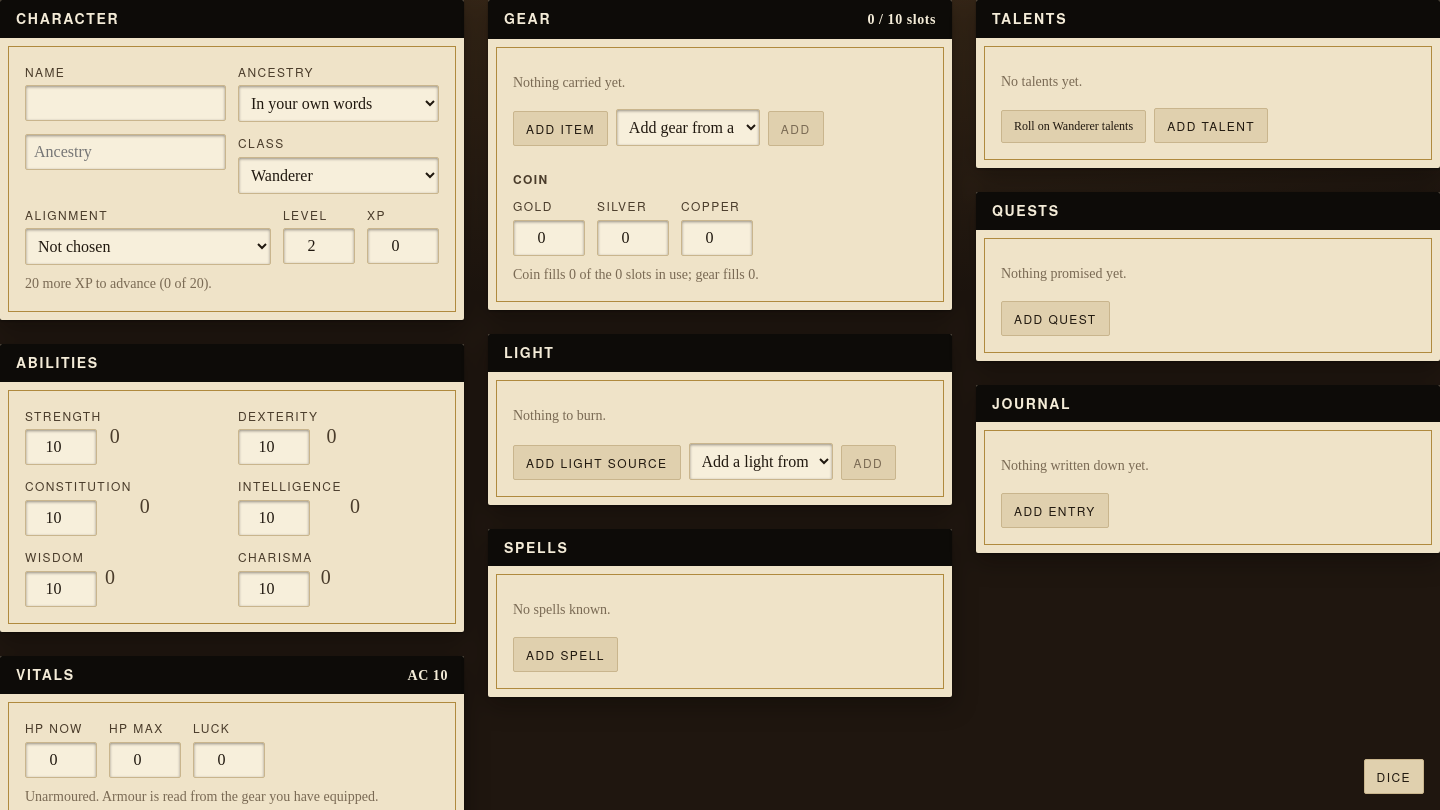
it: the class’s talent table › writes nothing when the roll lands on a face no row covers
Click the button "Roll on Wanderer talents" at [1074, 127], box [1001,110,1146,143]
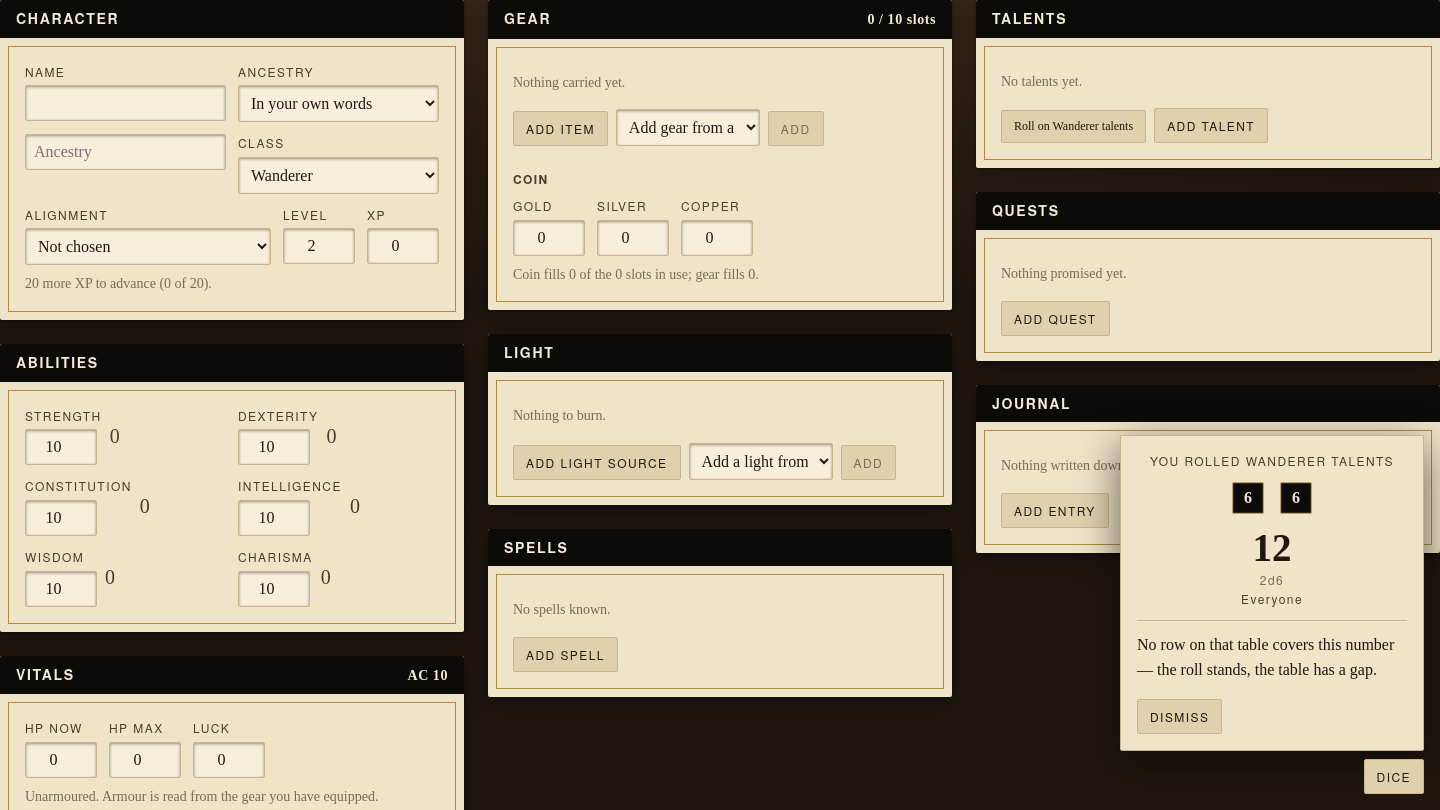
Now the text with class "dice__row" shows "gap", box [1137,636,1394,678]
